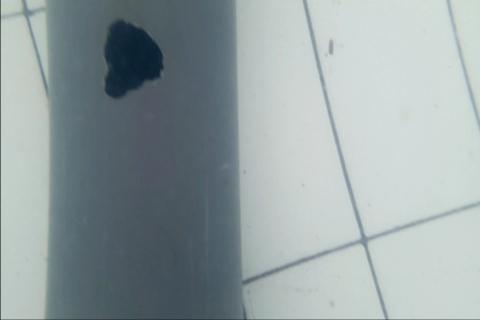kebocoran: (102, 16, 165, 101)
